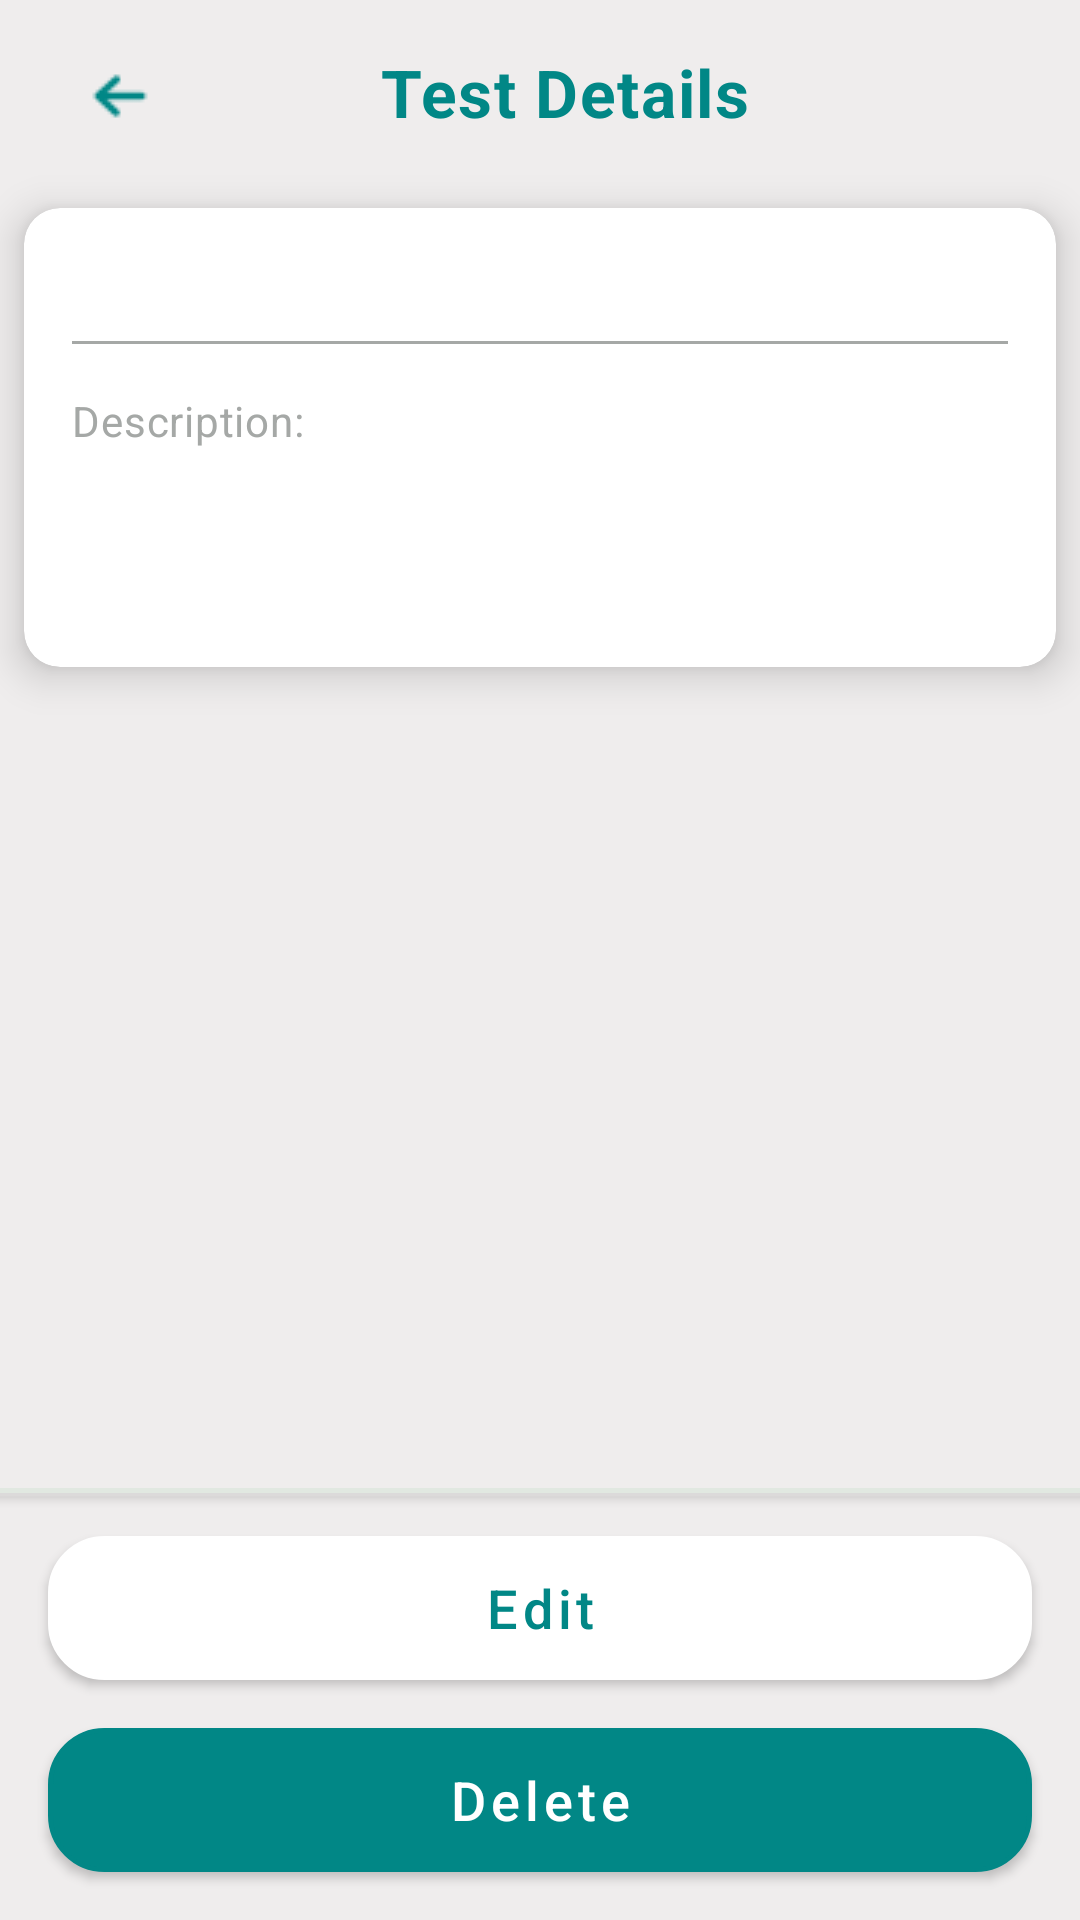

Named icons in this screenshot (1080*1920) and their bounding boxes, [x1=x1, y1=y1, x2=x2, y2=y2]:
back: [x1=93, y1=74, x2=147, y2=118]
